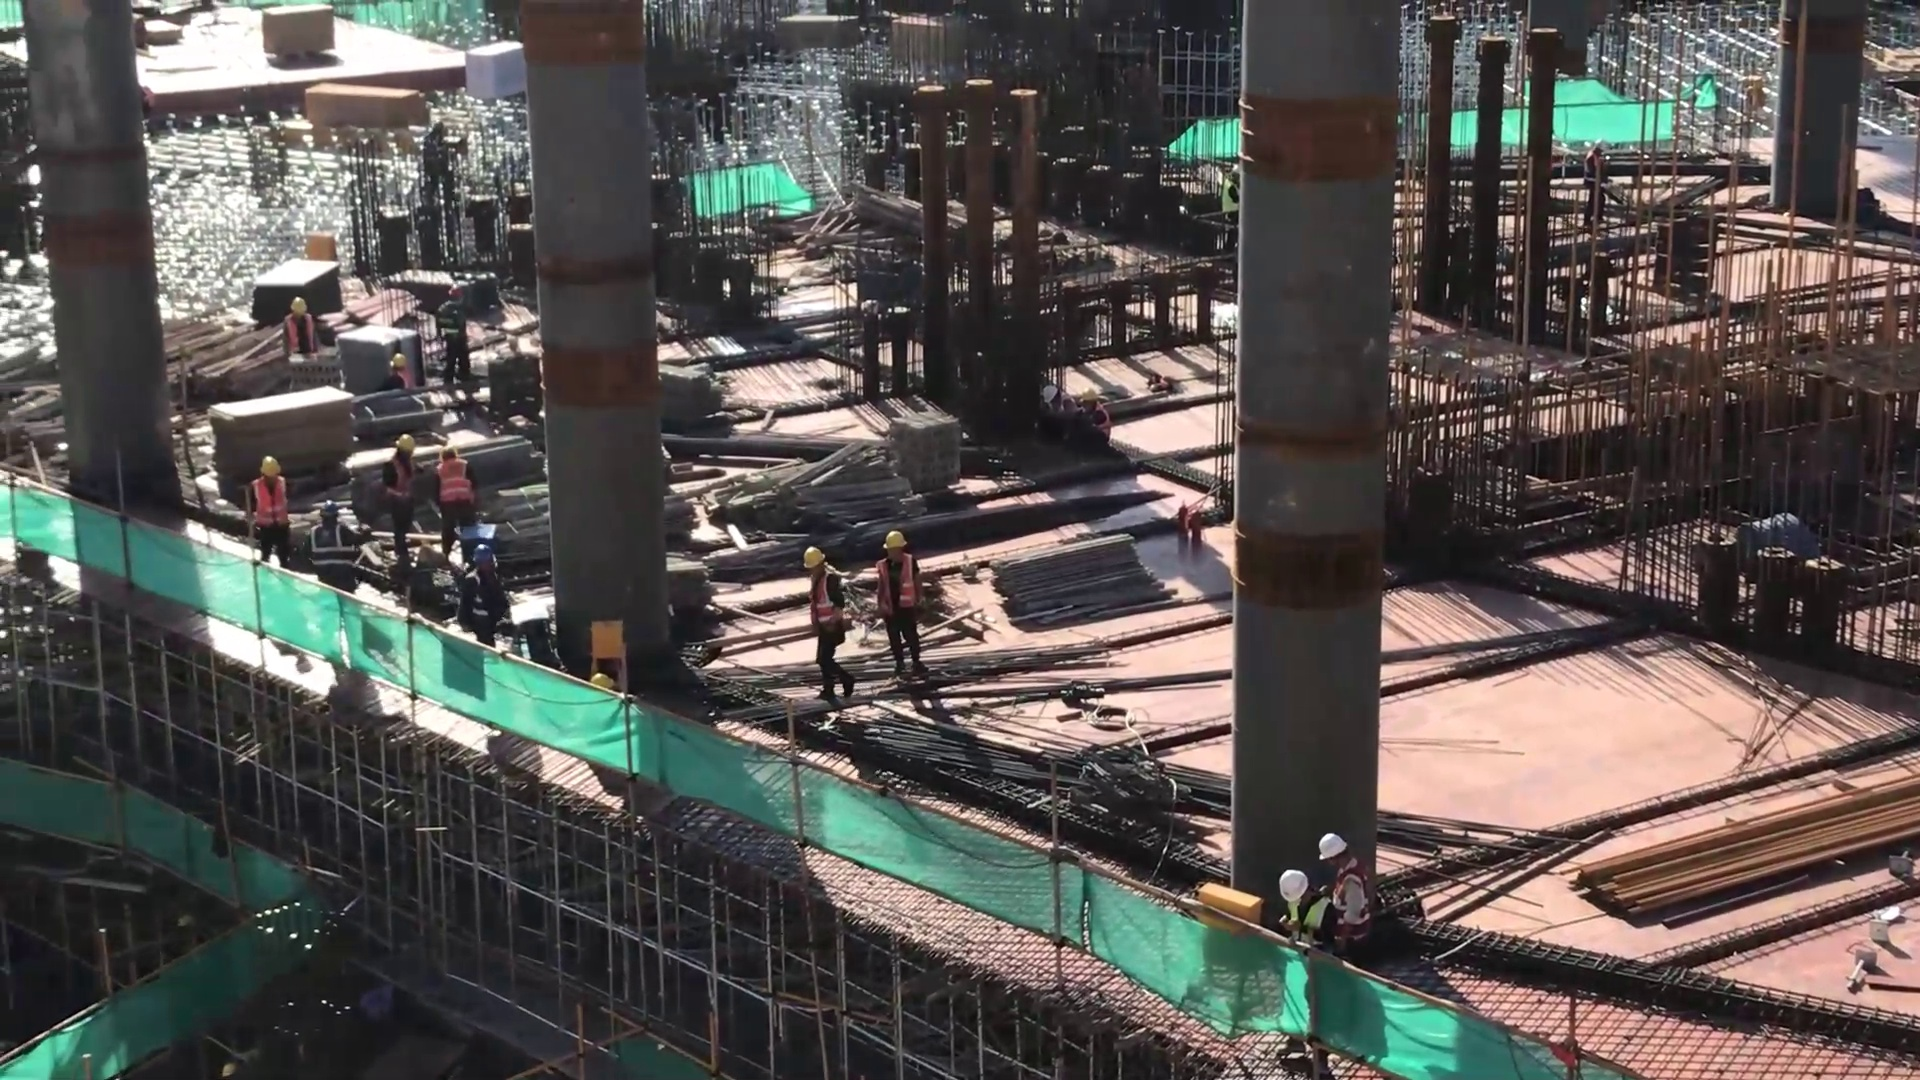helmet: (1316, 826, 1357, 863), (1276, 869, 1310, 904), (253, 454, 287, 483), (470, 544, 502, 572), (799, 544, 832, 570), (389, 431, 418, 457), (882, 527, 913, 552), (316, 499, 345, 521), (288, 295, 313, 320), (436, 442, 461, 463), (387, 352, 409, 372), (446, 283, 465, 302)
person: (870, 521, 942, 691), (795, 540, 864, 699), (1315, 824, 1380, 966), (237, 448, 303, 575), (1270, 864, 1345, 966), (375, 429, 426, 574), (305, 494, 373, 603), (427, 438, 484, 569), (453, 541, 518, 653), (434, 279, 484, 385), (278, 290, 324, 366), (375, 352, 416, 395)
vest: (1334, 861, 1374, 949), (875, 553, 920, 622), (803, 573, 849, 636), (249, 477, 295, 532), (307, 522, 359, 570), (1282, 904, 1332, 949), (465, 566, 499, 627), (435, 460, 474, 503), (284, 315, 316, 363), (435, 300, 468, 345), (387, 458, 416, 508), (393, 370, 416, 394)
